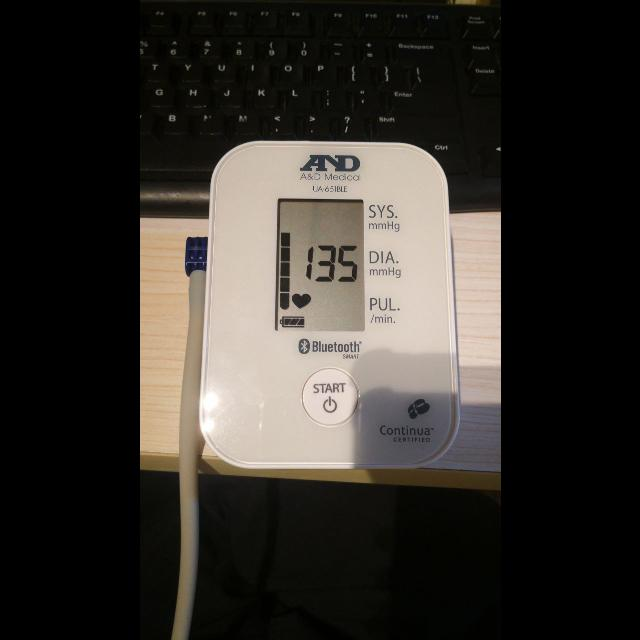Blood-Pressure-Monitor: (198, 140, 460, 470)
